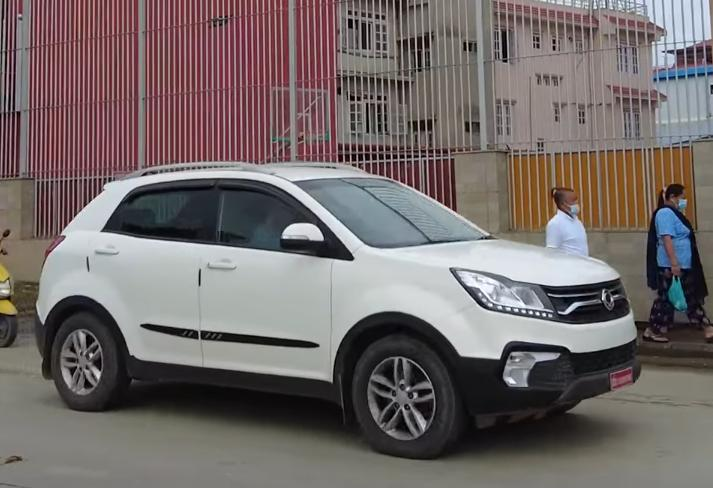car: (40, 154, 649, 446)
